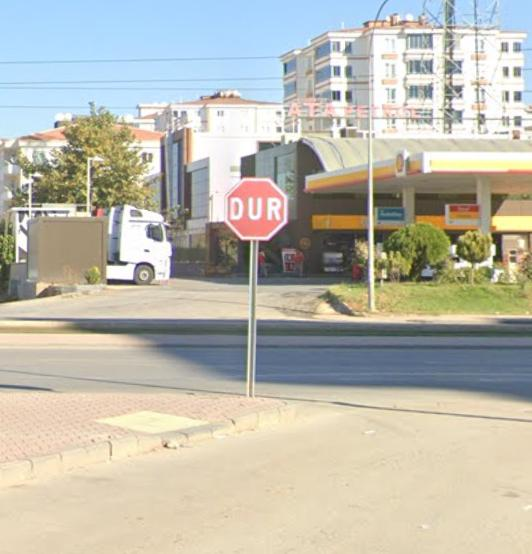stop: (226, 181, 285, 237)
